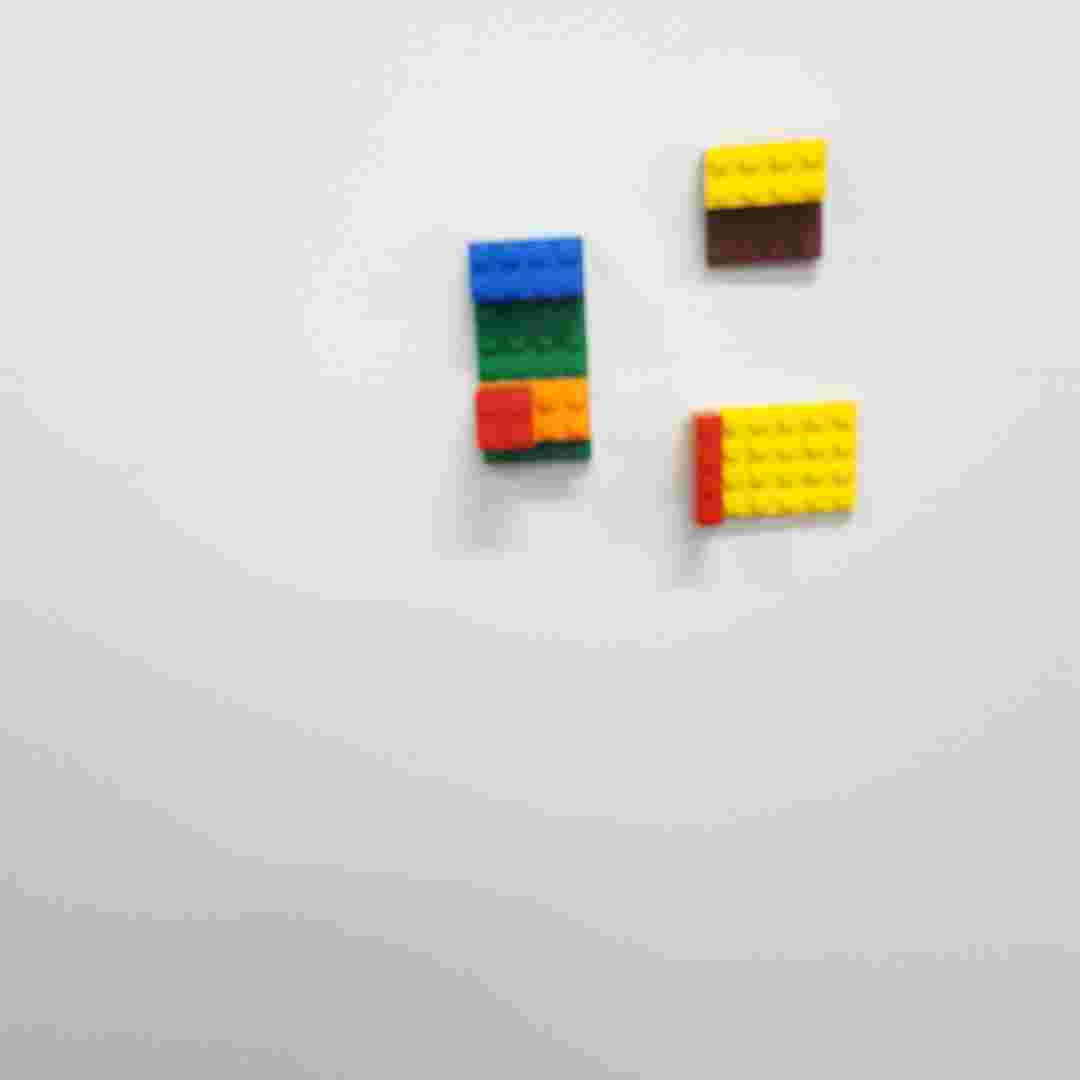LEGO: (459, 227, 600, 469), (682, 391, 876, 534), (701, 131, 828, 271)
